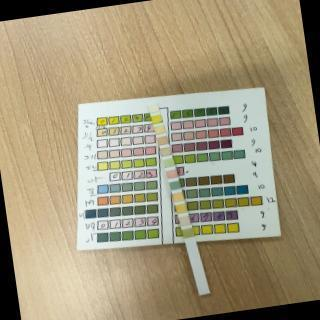mark: (179, 216, 189, 226), (172, 192, 182, 202), (170, 182, 180, 190), (167, 170, 177, 178), (160, 148, 170, 156), (158, 136, 168, 144), (177, 204, 186, 212), (156, 126, 165, 134), (183, 229, 191, 237), (165, 158, 173, 166), (153, 116, 161, 124), (150, 104, 158, 112)
